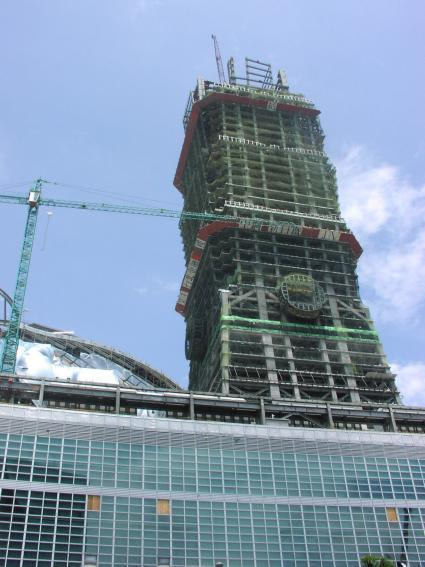building: (171, 31, 407, 413), (0, 374, 425, 567)
